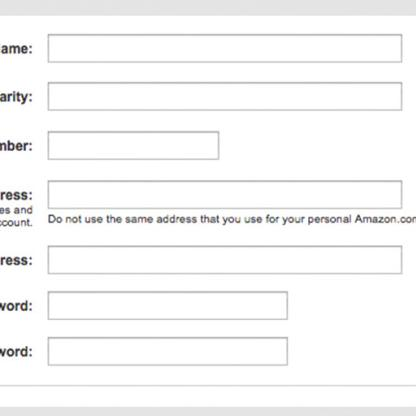field: (43, 242, 403, 275), (43, 80, 403, 112), (43, 32, 402, 64), (43, 178, 402, 210), (43, 288, 289, 320), (43, 335, 288, 367), (42, 128, 221, 160)
